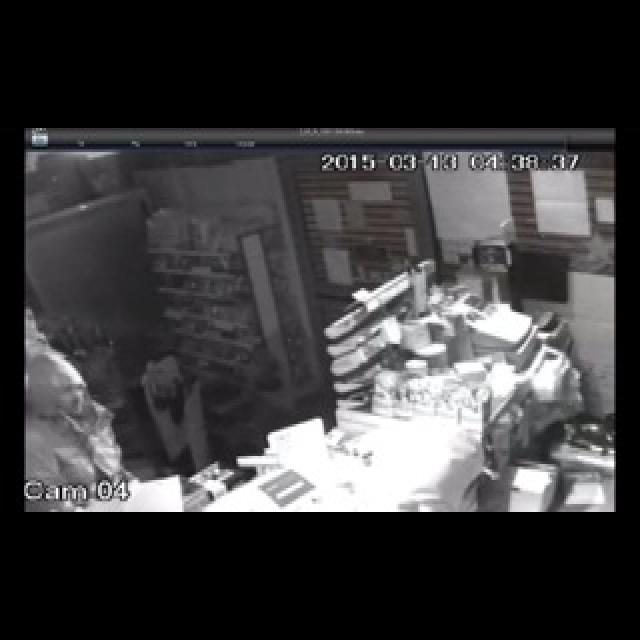thief: (24, 337, 124, 477)
